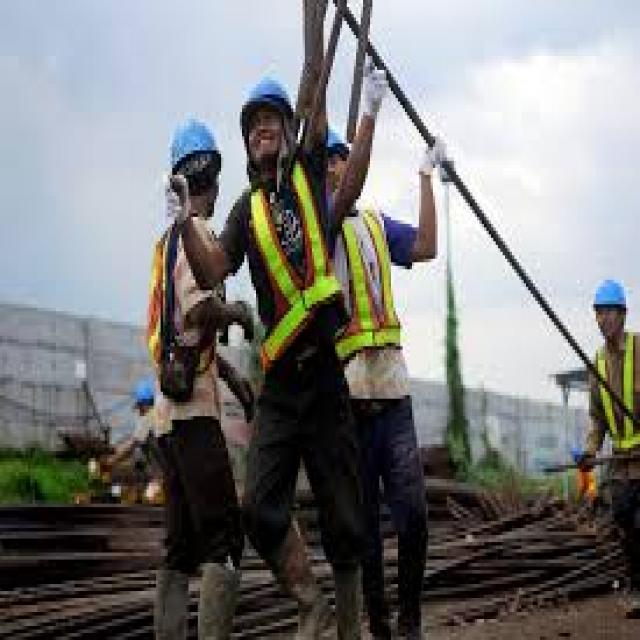Reflective-Jacket: (237, 161, 349, 388), (314, 192, 417, 402), (135, 206, 230, 424), (582, 325, 640, 472)
Safety-Helmet: (156, 105, 226, 182), (235, 66, 303, 130), (305, 105, 358, 171), (584, 269, 635, 322)
